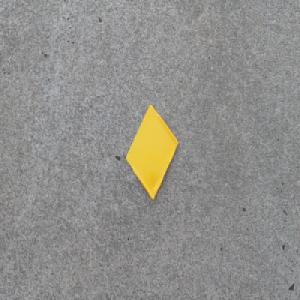PlasticPart: (125, 103, 179, 201)
